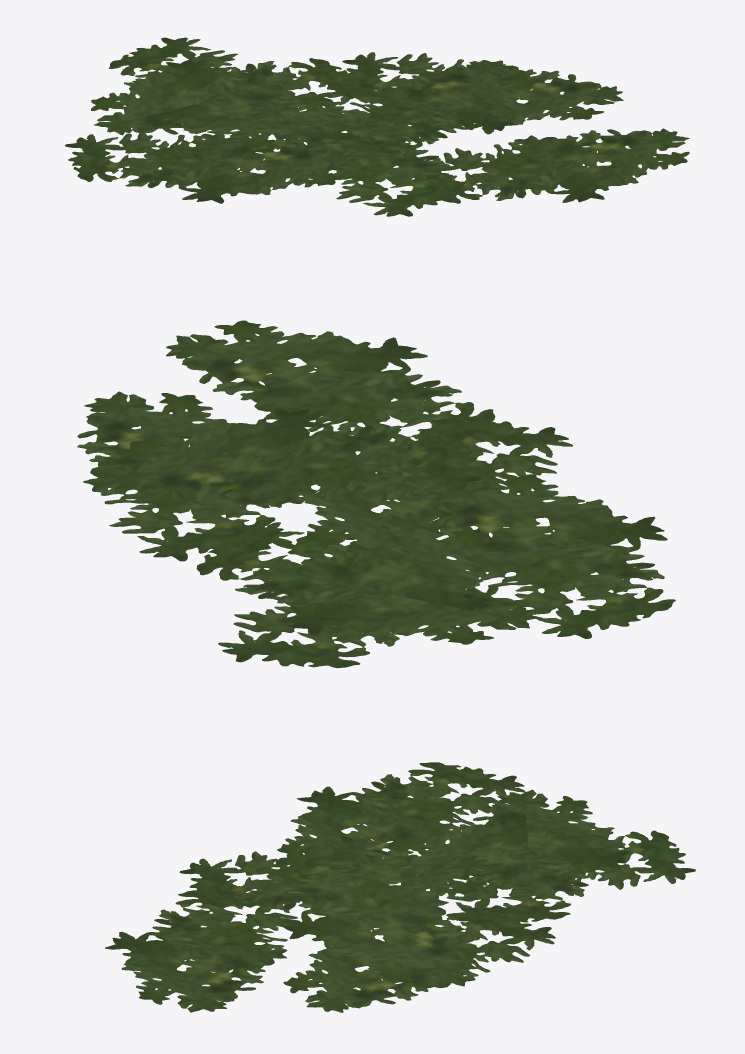
The model's file is Grass_B_1.fbx.
3 views of the same model, one above another, from view 1: azimuth 30°, elevation 25°; view 2: azimuth 150°, elevation 25°; view 3: azimuth 270°, elevation 25° (orthographic). The views are drawn at different scales.
Parts seen in each view (by area): view 1: Grass_B_1__70_; view 2: Grass_B_1__70_; view 3: Grass_B_1__70_.
Boxes of the visible parts, left/top/right/bottom form: Grass_B_1__70_: left=65, top=37, right=689, bottom=216; Grass_B_1__70_: left=77, top=320, right=675, bottom=668; Grass_B_1__70_: left=105, top=762, right=695, bottom=1012.
Size of the model in its own units: 0.4349 by 0.0197 by 0.4245.
